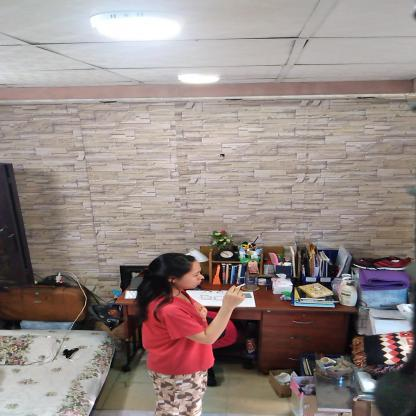cigarette: (234, 283, 245, 289)
person: (132, 253, 245, 415)
